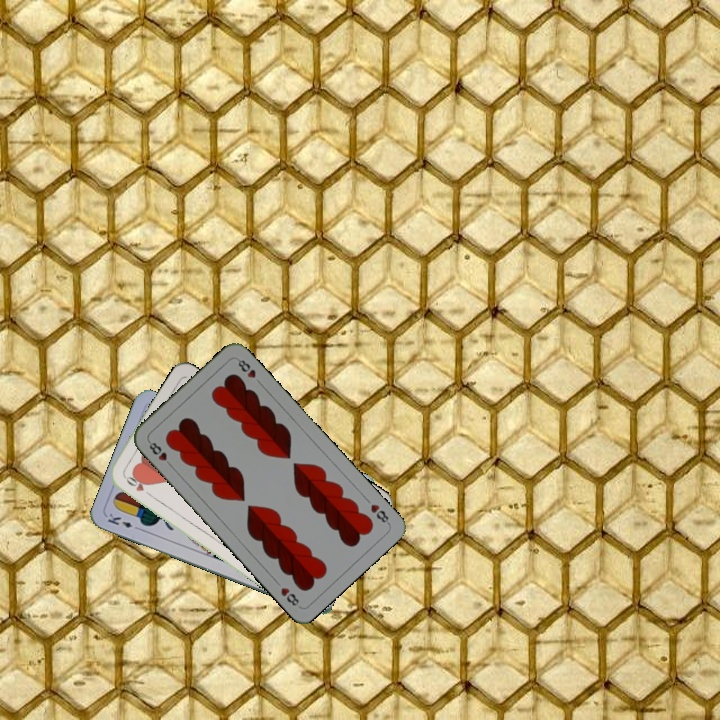EK: (103, 509, 143, 533)
H8: (144, 437, 175, 470), (367, 500, 392, 527)
HO: (120, 472, 155, 500)
